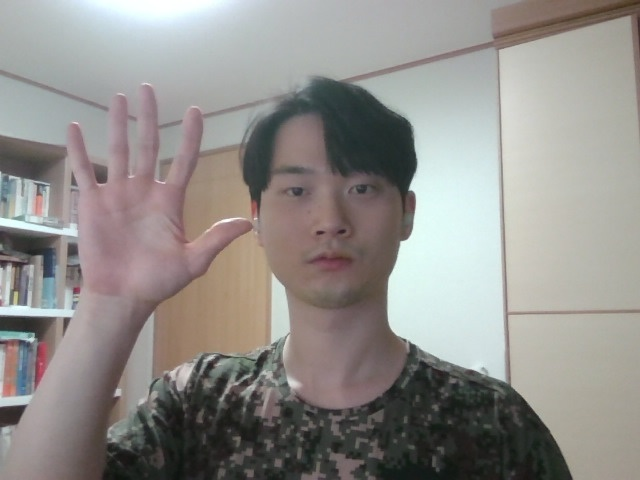hello: (44, 83, 263, 320)
